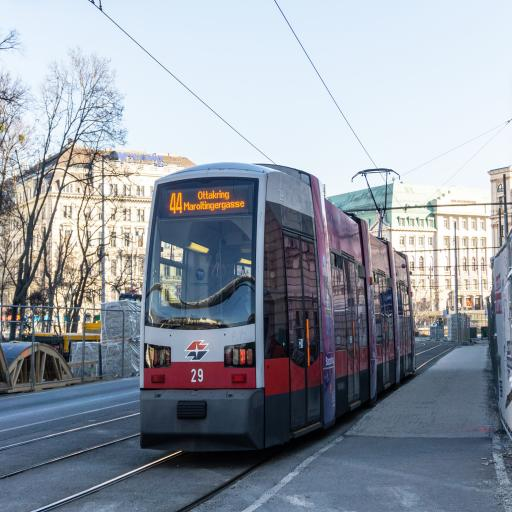ULF: (139, 164, 417, 446)
